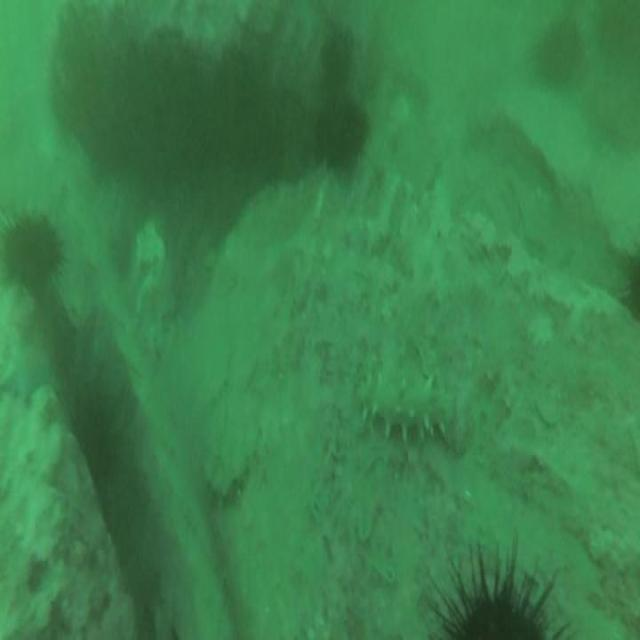echinus: (5, 217, 60, 296), (321, 96, 366, 166), (73, 403, 111, 479), (540, 19, 580, 87), (318, 32, 350, 87)
holothurian: (358, 378, 455, 442), (204, 462, 248, 511)
